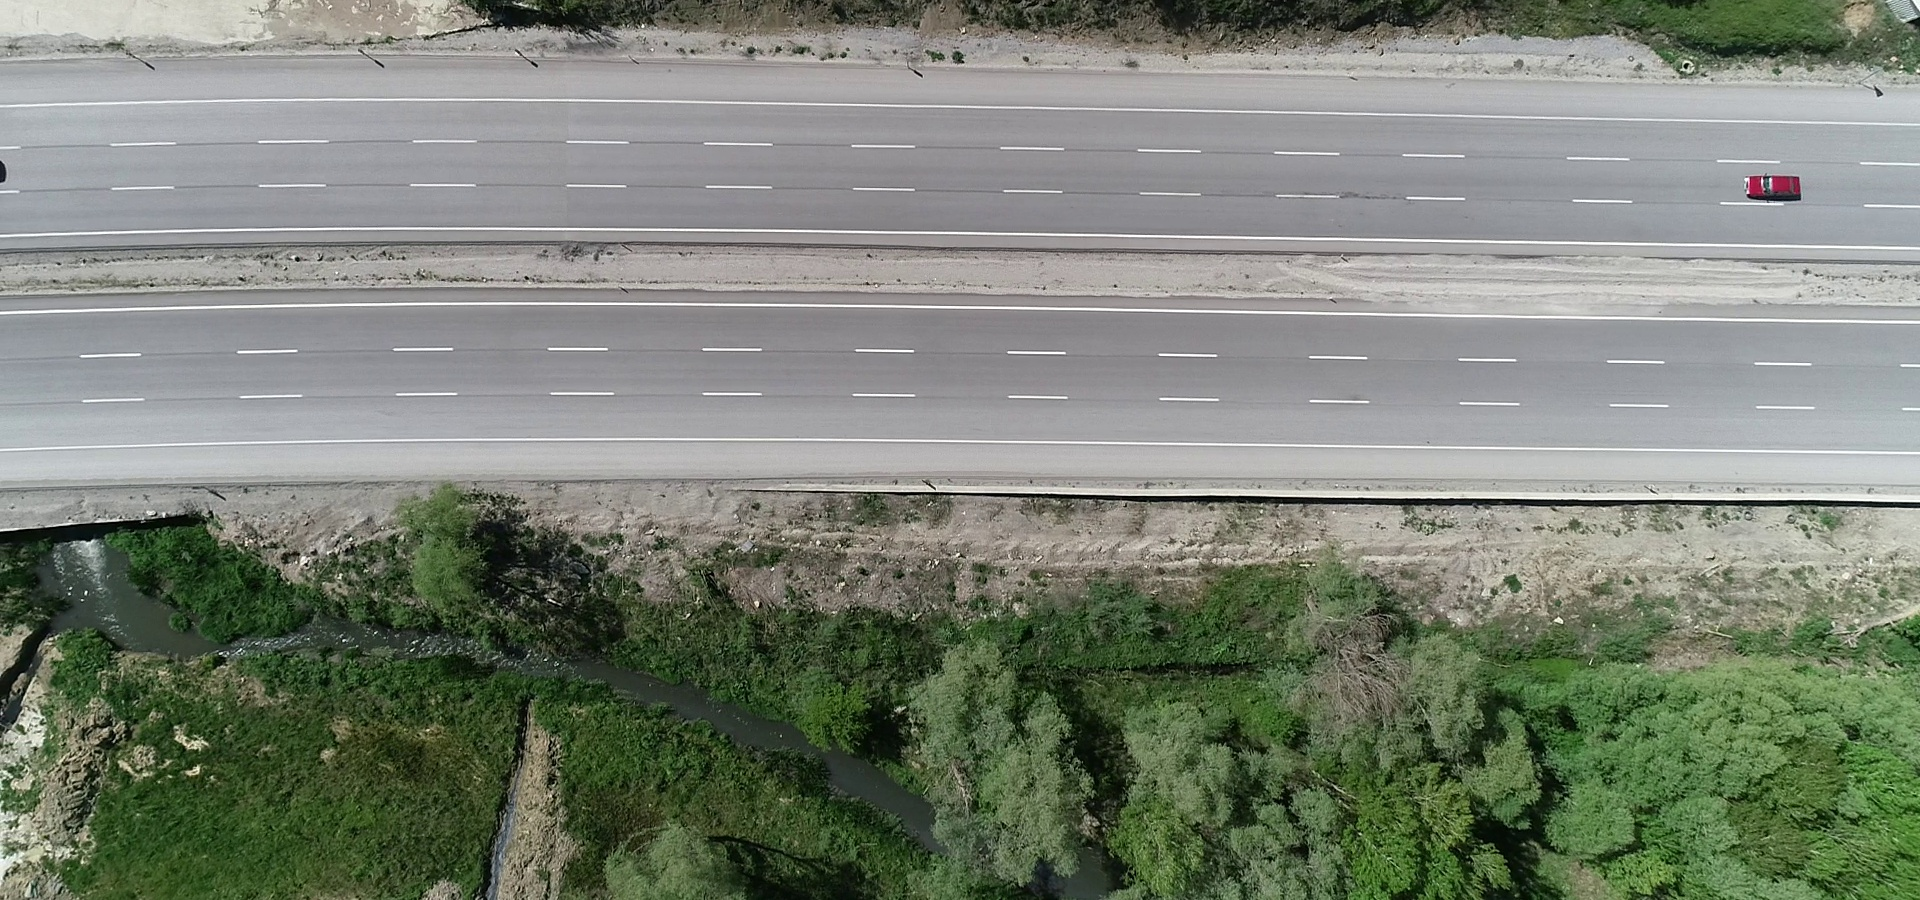araba: (1738, 171, 1815, 198)
